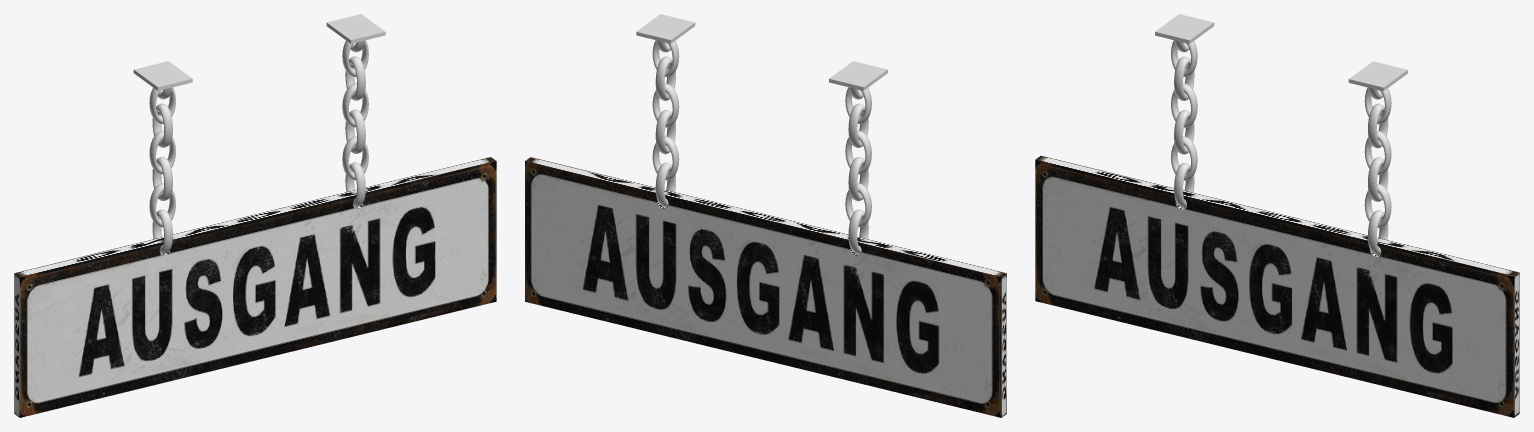
File: Exitsign.FBX
3 views of the same model, side by side, from view 1: azimuth 30°, elevation 25°; view 2: azimuth 150°, elevation 25°; view 3: azimuth 330°, elevation 25° (orthographic).
Visible parts, largest first — view 1: Box001, Chain002, Chain01; view 2: Box001, Chain002, Chain01; view 3: Box001, Chain01, Chain002.
Part boxes in pixels (x1,y1,x2,y2): Box001: (14, 157, 496, 417); Chain002: (133, 61, 192, 253); Chain01: (326, 14, 385, 206); Box001: (525, 157, 1006, 417); Chain002: (829, 61, 887, 253); Chain01: (636, 14, 695, 206); Box001: (1035, 156, 1519, 417); Chain01: (1348, 61, 1407, 254); Chain002: (1155, 14, 1214, 207).
Bounding box in the file's own units: 68.16 × 41.85 × 6.01.
1 material, 1 textured.
